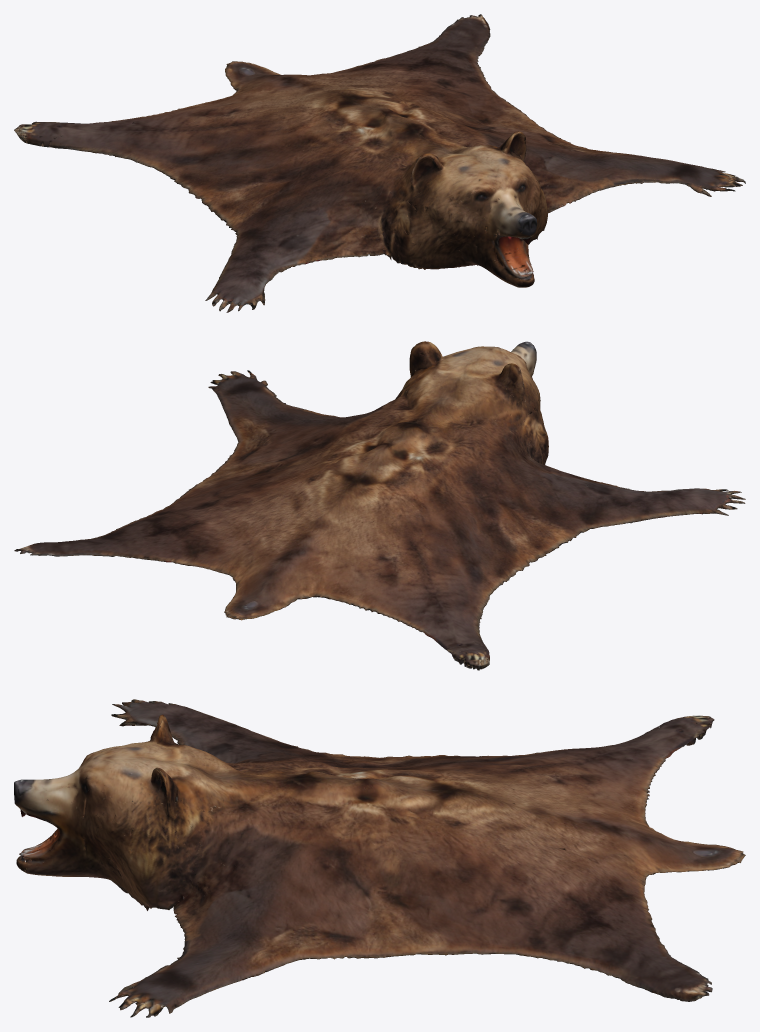
File: Bear_Rug_Display_0722164633_texture.fbx
3 views of the same model, one above another, from view 1: azimuth 30°, elevation 25°; view 2: azimuth 150°, elevation 25°; view 3: azimuth 270°, elevation 25° (orthographic). The views are drawn at different scales.
Parts seen in each view (by area): view 1: Mesh_0; view 2: Mesh_0; view 3: Mesh_0.
Part boxes in pixels (box(x1,y1,x2,y2)): Mesh_0: box(14, 14, 745, 312); Mesh_0: box(14, 341, 745, 670); Mesh_0: box(14, 699, 745, 1017).
Bounding box in the file's own units: 200 × 39.5 × 195.
1 material, 1 textured.
